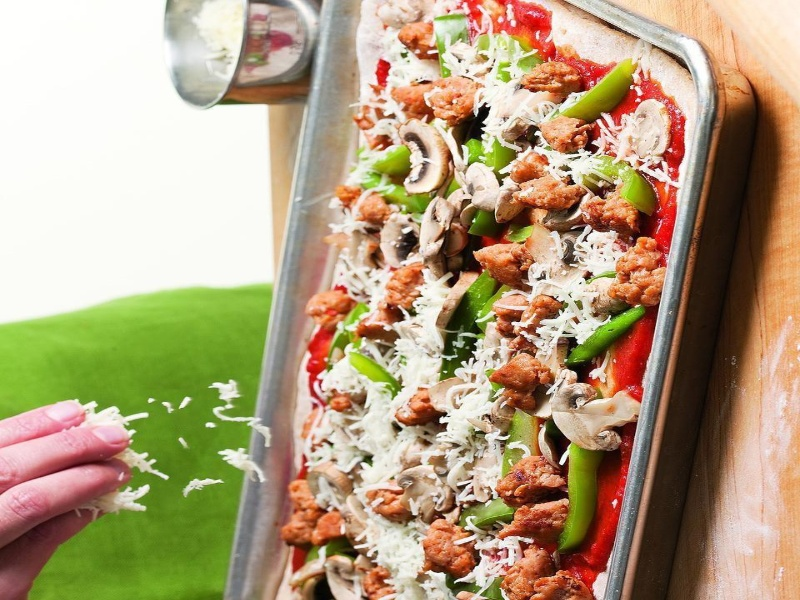champignon: (547, 379, 645, 458), (390, 114, 462, 199), (393, 463, 461, 522), (624, 99, 676, 160)
